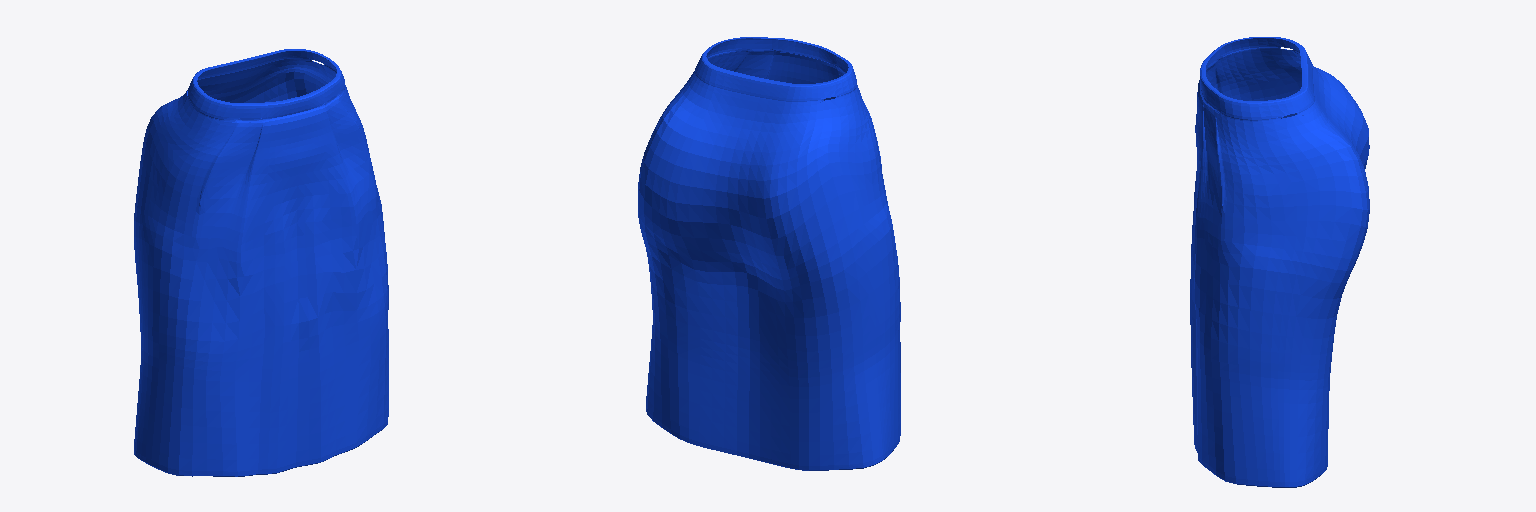
The model's file is baotunqun4.obj.
The picture shows the model from 3 angles: view 1: azimuth 30°, elevation 25°; view 2: azimuth 150°, elevation 25°; view 3: azimuth 270°, elevation 25°; orthographic projection.
Visible parts, largest first — view 1: file; view 2: file; view 3: file.
Part boxes in pixels (x1,y1,x2,y2): file: (134, 49, 388, 476); file: (638, 37, 900, 470); file: (1190, 37, 1369, 487).
Size of the model in its own units: 3.43 by 5.27 by 2.28.